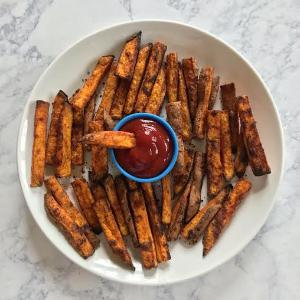fries_350cal: (29, 47, 273, 267)
